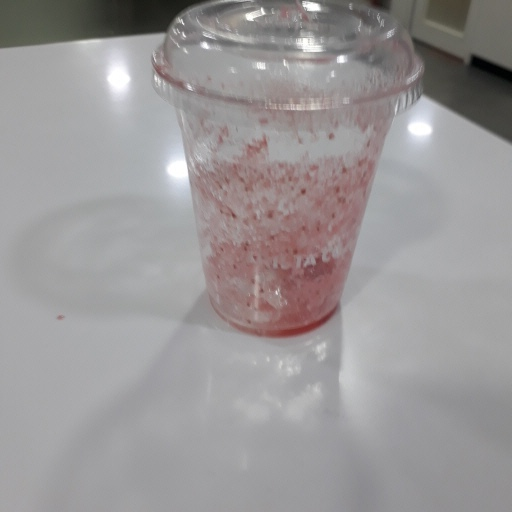Plastic_2: (152, 1, 426, 341)
